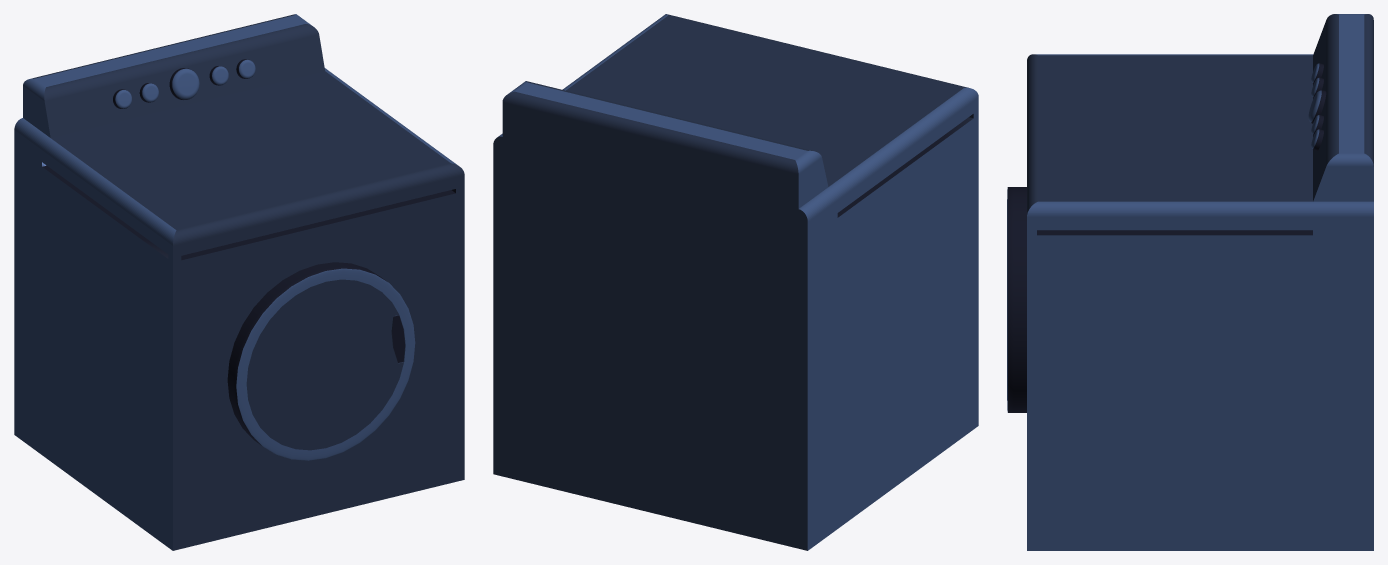
The model's file is dryer.fbx.
3 renders of one model, left to right at view 1: azimuth 30°, elevation 25°; view 2: azimuth 150°, elevation 25°; view 3: azimuth 270°, elevation 25°, orthographic. The views are drawn at different scales.
Visible parts, largest first — view 1: Dyer; view 2: Dyer; view 3: Dyer.
Part boxes in pixels (x1,y1,x2,y2): Dyer: (14, 14, 464, 550); Dyer: (493, 14, 978, 550); Dyer: (1007, 14, 1373, 550).
Size of the model in its own units: 400 by 466 by 398.
1 material, 1 textured.
